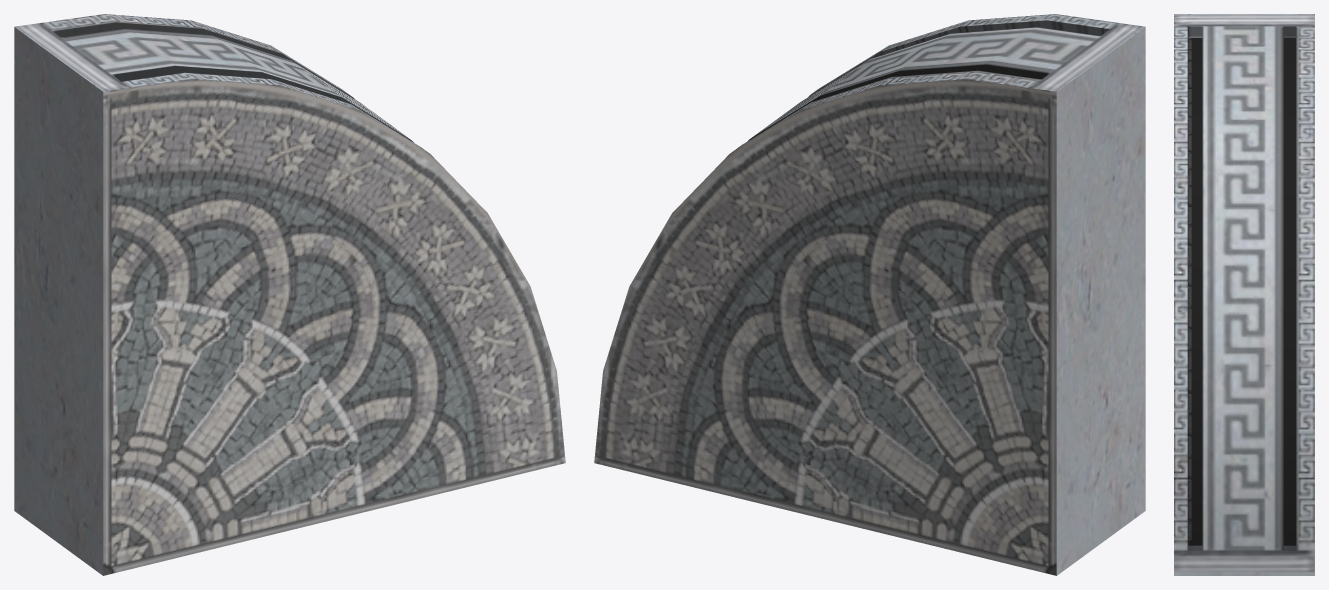
Rendered from Curve3_Set2.fbx.
3 renders of one model, left to right at view 1: azimuth 30°, elevation 25°; view 2: azimuth 150°, elevation 25°; view 3: azimuth 270°, elevation 25°, orthographic. The views are drawn at different scales.
Parts seen in each view (by area): view 1: Curve3_Set2; view 2: Curve3_Set2; view 3: Curve3_Set2.
Part boxes in pixels (x1,y1,x2,y2): Curve3_Set2: (14,14,565,575); Curve3_Set2: (594,14,1145,575); Curve3_Set2: (1174,14,1314,575).
Bounding box in the file's own units: 3 × 3 × 1.
